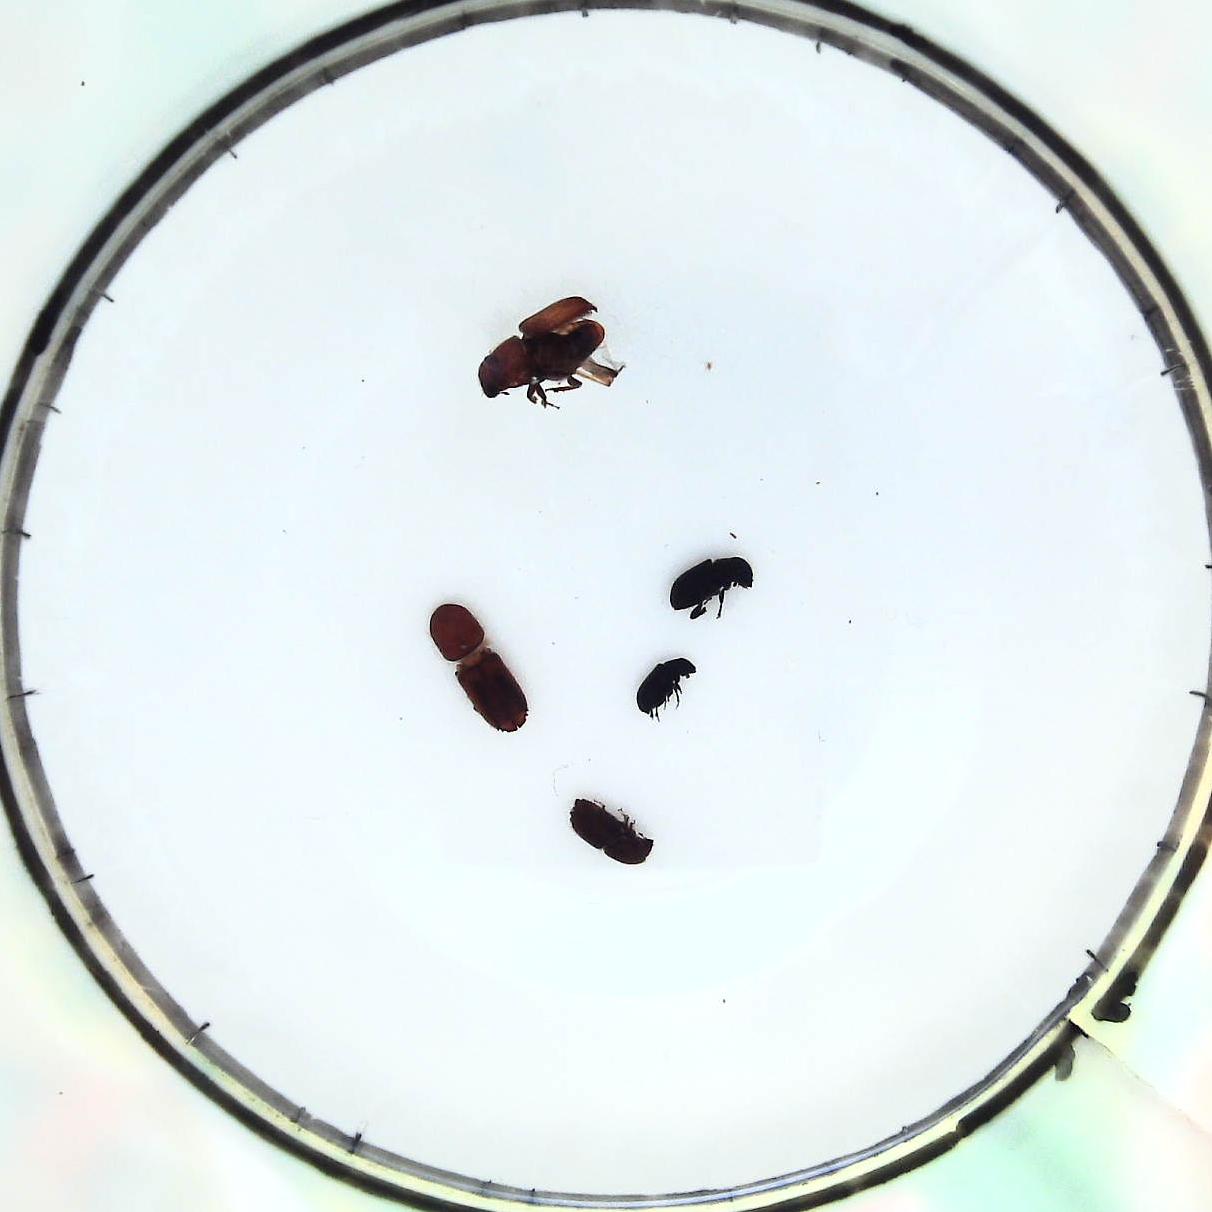Boerner: (433, 604, 528, 733)
Leconte: (479, 289, 616, 404)
Linnaeus: (567, 780, 660, 870)
armandi: (675, 555, 748, 616)
coleoptera: (638, 653, 697, 716)
